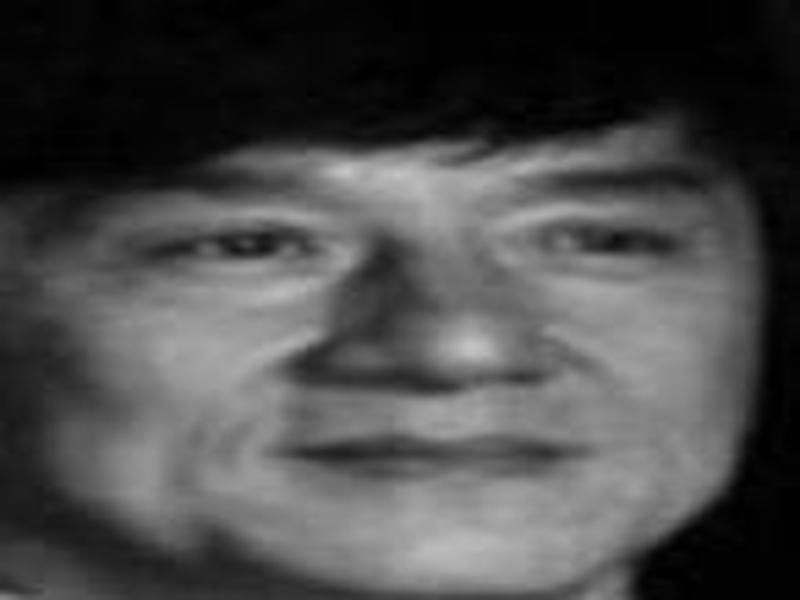without_mask: (33, 125, 751, 589)
